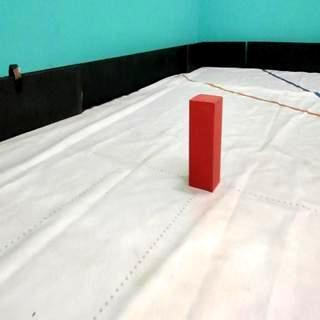redbox: (186, 93, 222, 192)
